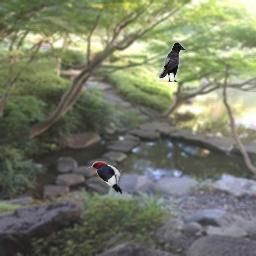Crow: (159, 42, 185, 82)
Woodpecker: (85, 161, 125, 194)
